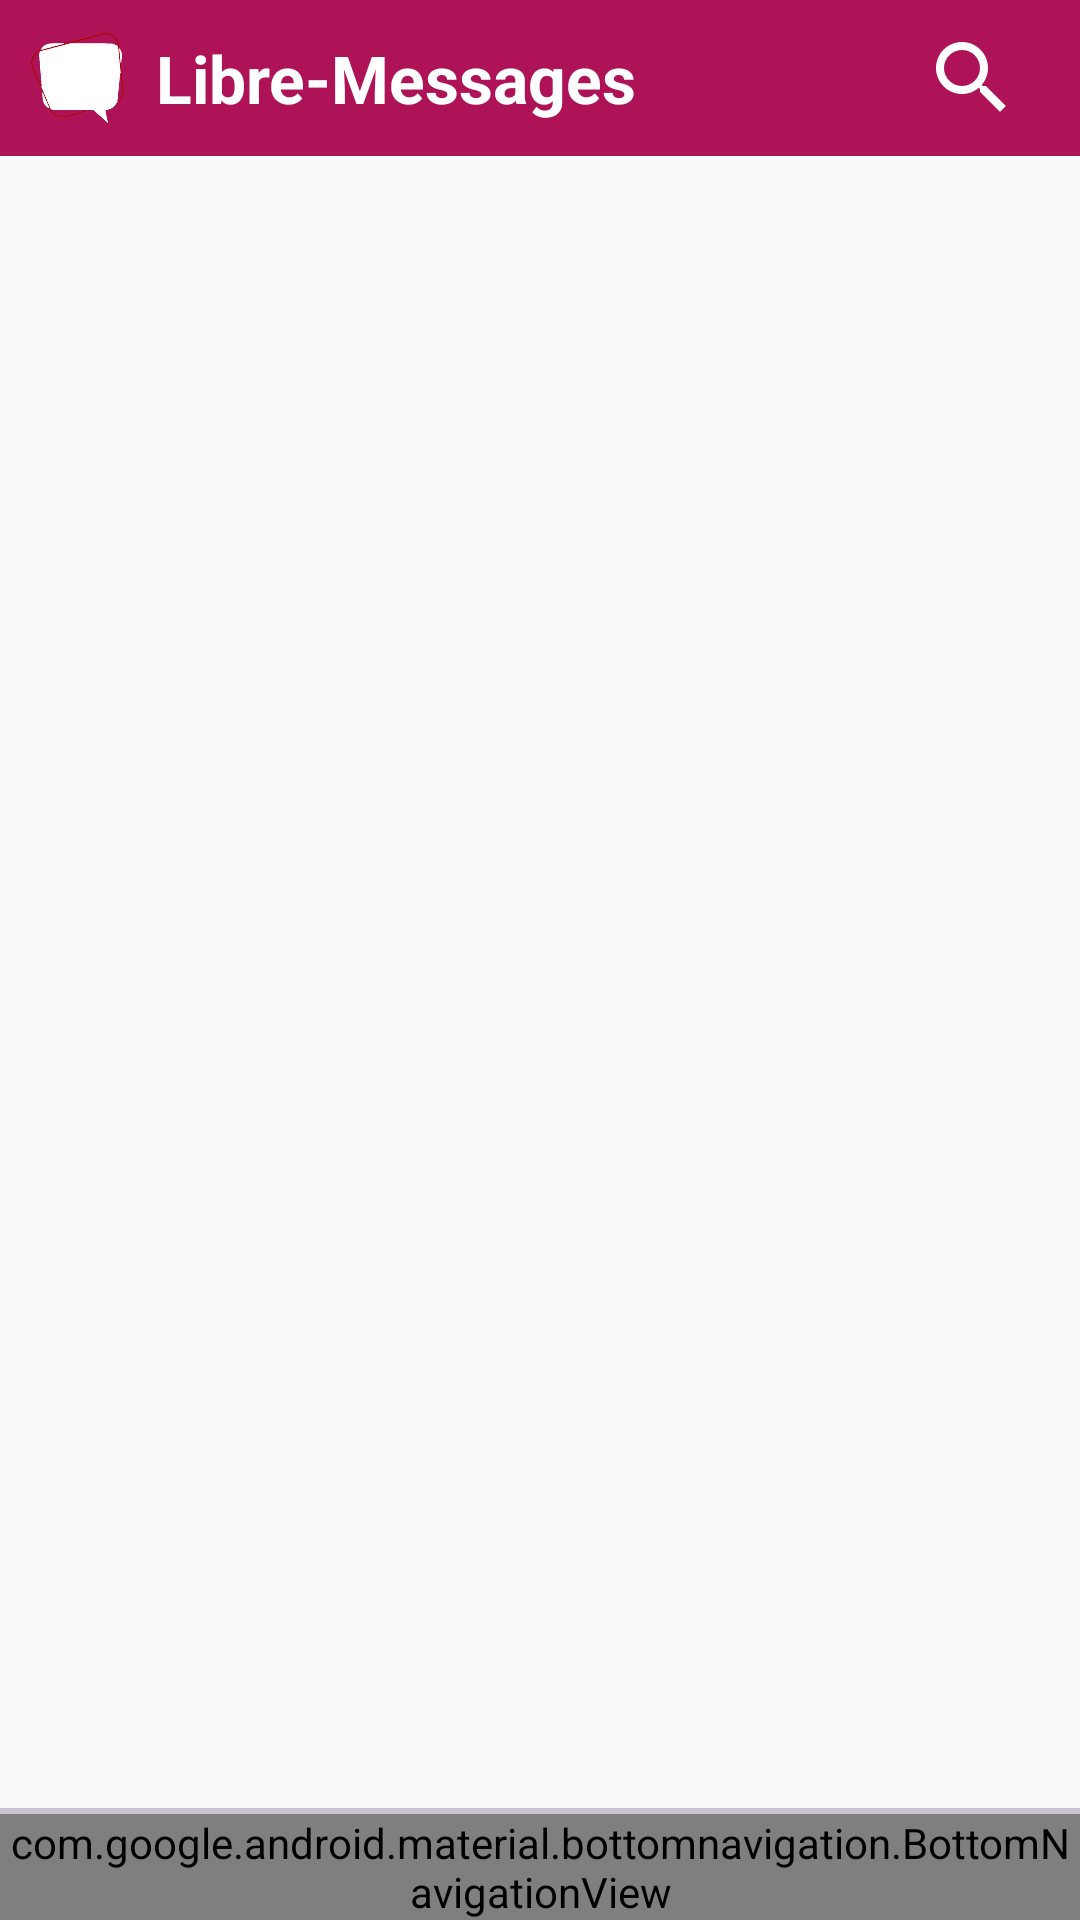

Point at icon controls on the screen. Image size 1080 × 1920, points as [x,y].
search: [971,77]
